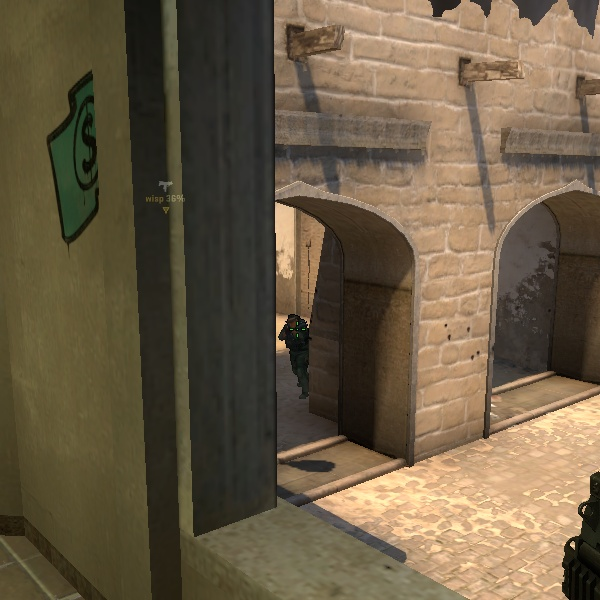ct_body: (275, 306, 316, 400)
